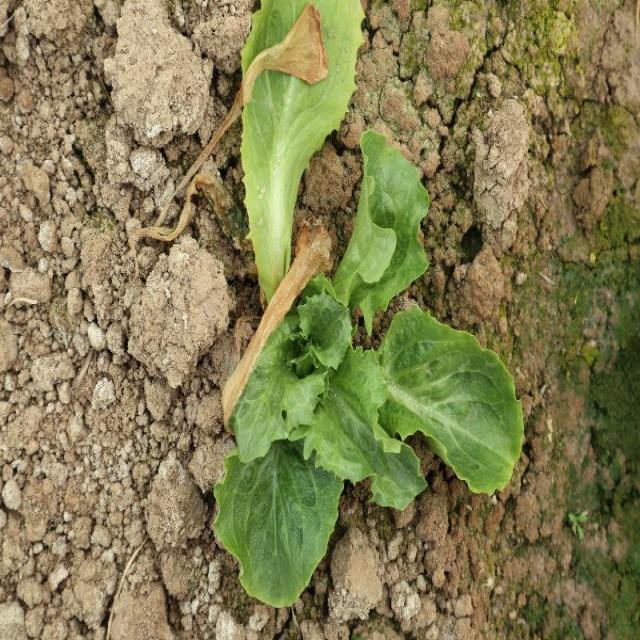crop: (212, 0, 525, 607)
